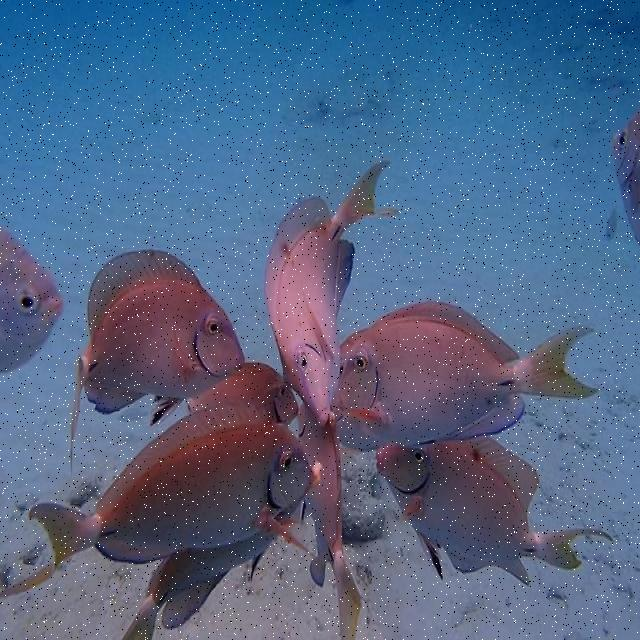fish: (30, 399, 315, 567), (331, 298, 606, 452), (263, 159, 402, 426), (70, 248, 243, 462), (377, 439, 613, 586), (296, 404, 361, 636), (0, 223, 60, 375), (616, 109, 639, 241)
